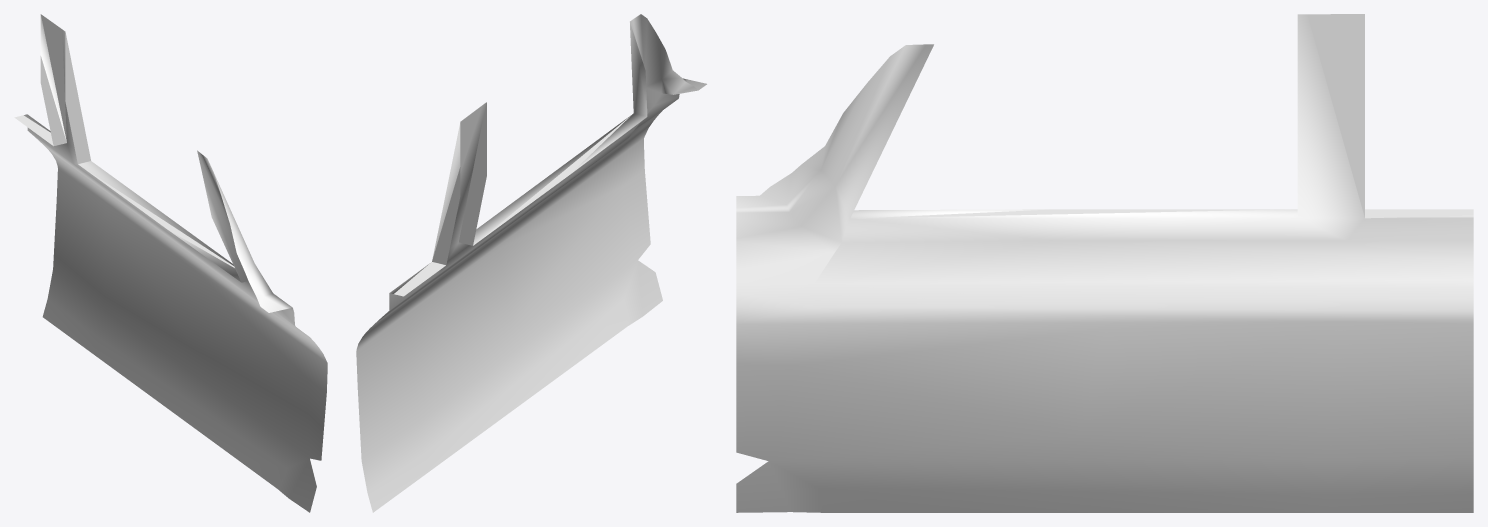
3 views of the same model, side by side, from view 1: azimuth 30°, elevation 25°; view 2: azimuth 150°, elevation 25°; view 3: azimuth 270°, elevation 25° (orthographic). The views are drawn at different scales.
Size of the model in its own units: 0.1486 by 0.8235 by 1.17.
Materials: 1 (1 with a texture image).
